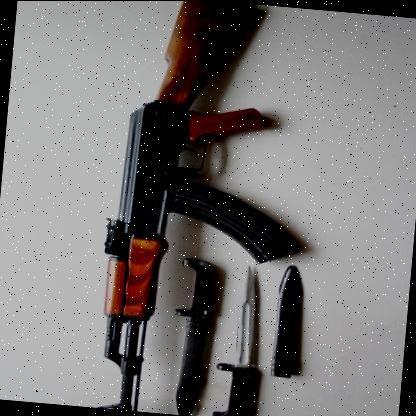rifle: (62, 0, 320, 416)
